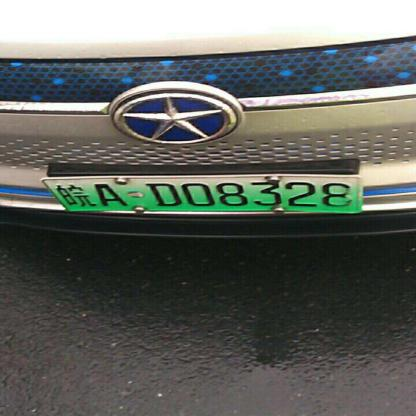lp: (42, 176, 68, 214)
